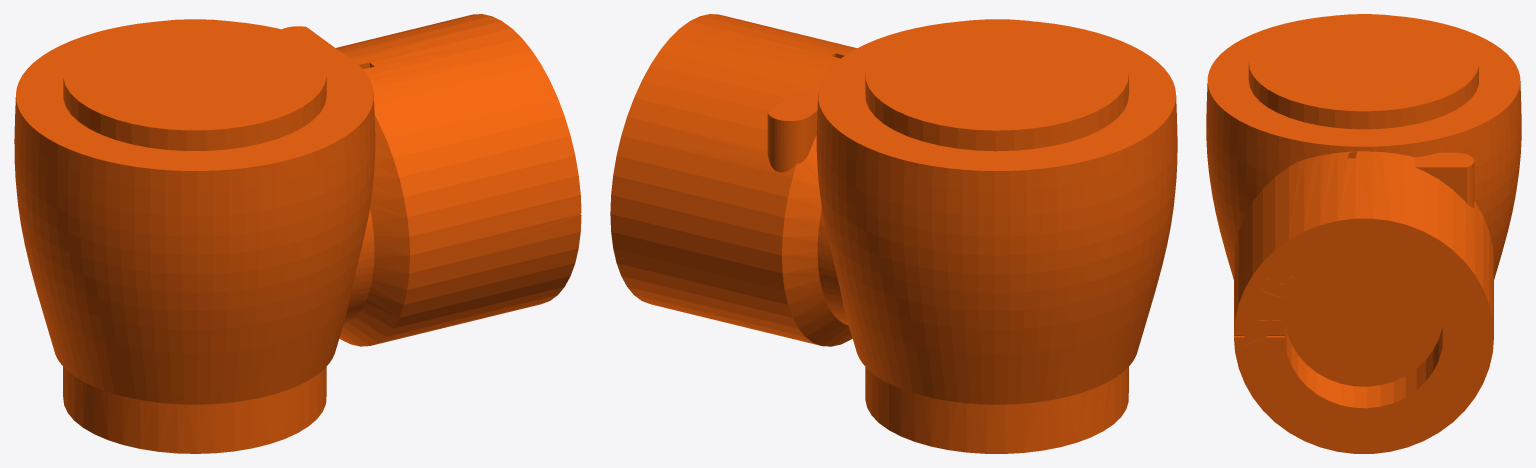
Rendered from KukaKR10R1100AlignedLink5.dae.
3 renders of one model, left to right at view 1: azimuth 30°, elevation 25°; view 2: azimuth 150°, elevation 25°; view 3: azimuth 270°, elevation 25°, orthographic. The views are drawn at different scales.
Visible parts, largest first — view 1: node0; view 2: node0; view 3: node0.
Part boxes in pixels (box(x1,y1,x2,y2)): node0: box(14, 14, 581, 453); node0: box(610, 14, 1177, 453); node0: box(1206, 14, 1521, 453).
Size of the model in its own units: 0.119 by 0.0785 by 0.0794.
